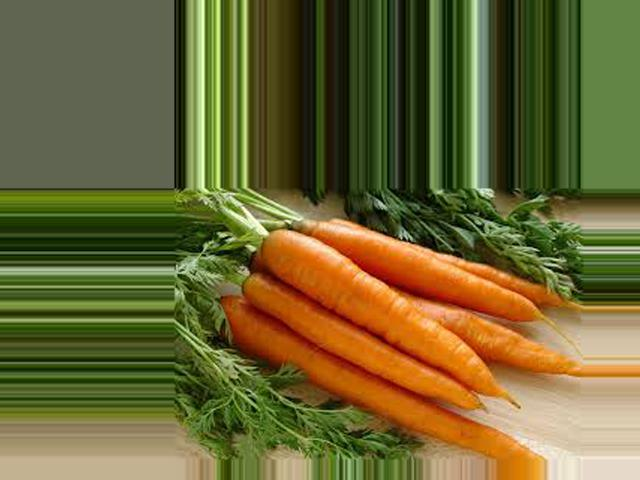carrot: (201, 296, 537, 461)
